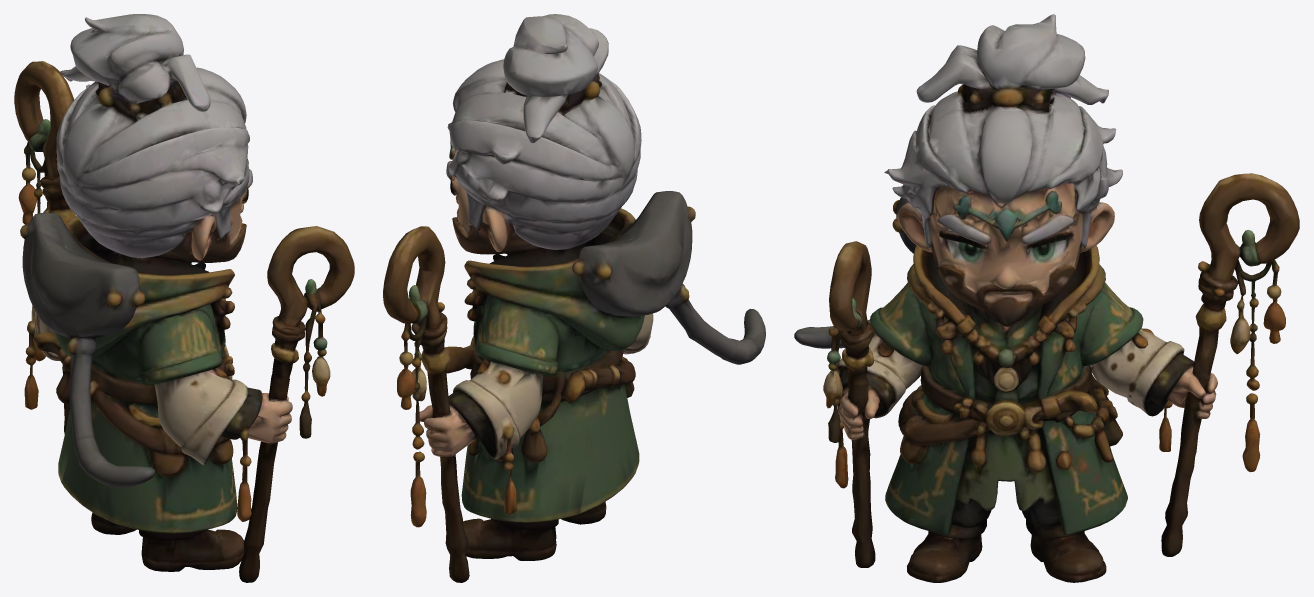
Rendered from dwarf.glb.
The picture shows the model from 3 angles, left to right: view 1: azimuth 30°, elevation 25°; view 2: azimuth 150°, elevation 25°; view 3: azimuth 270°, elevation 25°; orthographic projection. The views are drawn at different scales.
Parts seen in each view (by area): view 1: tripo_node_a792b77e-5123-44a4-b7d1-c18adbe38246; view 2: tripo_node_a792b77e-5123-44a4-b7d1-c18adbe38246; view 3: tripo_node_a792b77e-5123-44a4-b7d1-c18adbe38246.
Part boxes in pixels (box(x1,y1,x2,y2)): tripo_node_a792b77e-5123-44a4-b7d1-c18adbe38246: box(14, 14, 354, 582); tripo_node_a792b77e-5123-44a4-b7d1-c18adbe38246: box(383, 14, 765, 582); tripo_node_a792b77e-5123-44a4-b7d1-c18adbe38246: box(794, 14, 1299, 582).
Size of the model in its own units: 0.5182 by 0.9996 by 0.8669.
Materials: 1 (1 with a texture image).
